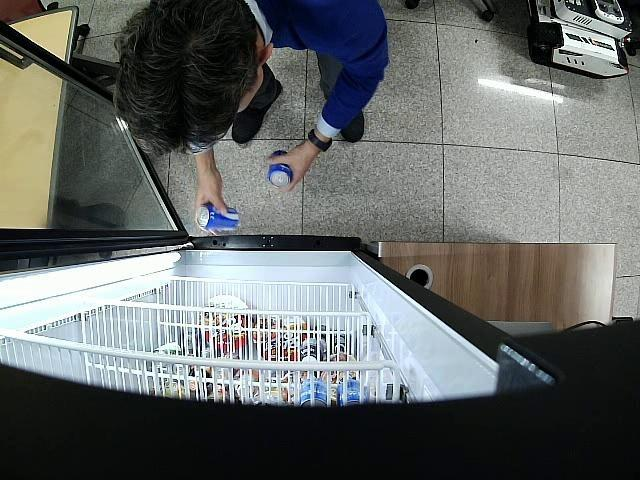13_pocariSweat: (196, 204, 240, 230), (268, 150, 292, 187)
